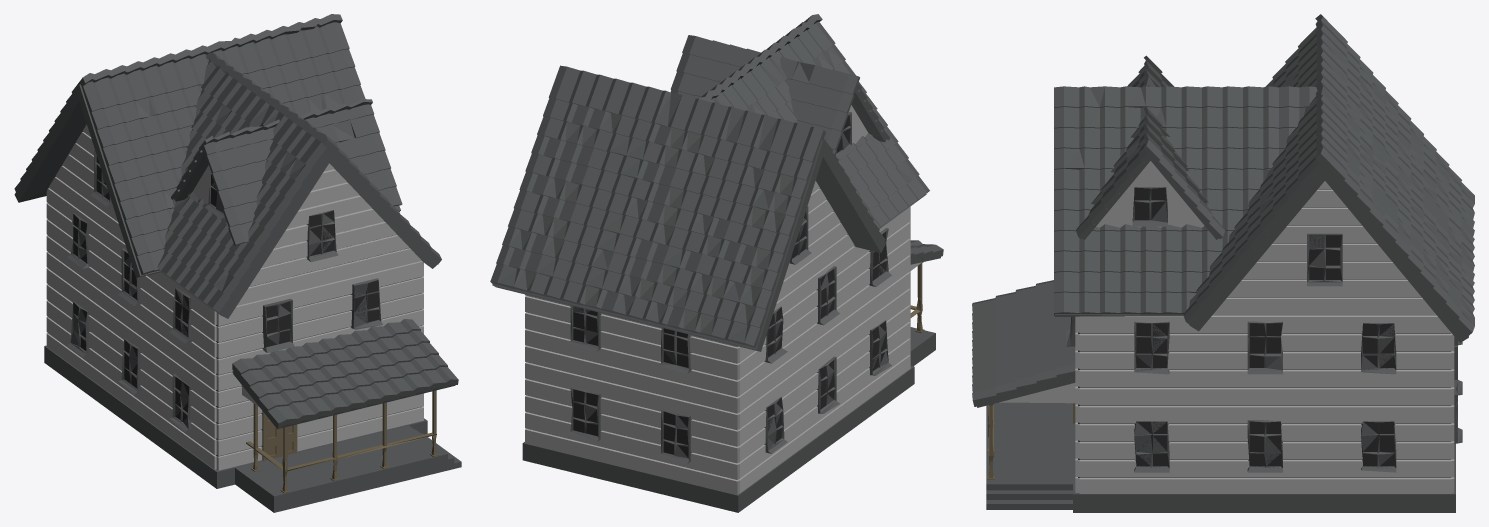
Rendered from b_house1.glb.
3 renders of one model, left to right at view 1: azimuth 30°, elevation 25°; view 2: azimuth 150°, elevation 25°; view 3: azimuth 270°, elevation 25°, orthographic. The views are drawn at different scales.
Parts seen in each view (by area): view 1: House1; view 2: House1; view 3: House1.
Boxes of the visible parts, x1,y1,x2,y2 form: House1: [14, 14, 461, 512]; House1: [490, 14, 943, 512]; House1: [972, 14, 1474, 512].
Size of the model in its own units: 2.56 by 3.18 by 3.87.
